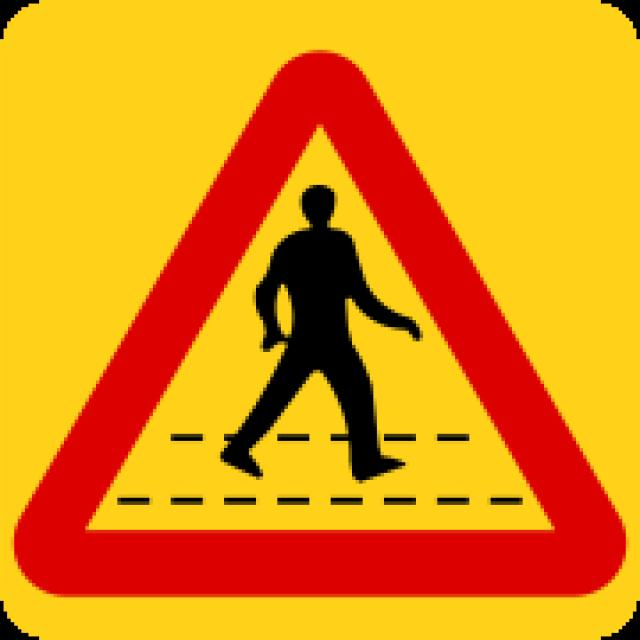Pedestrian crosswalk: (8, 40, 634, 604)
